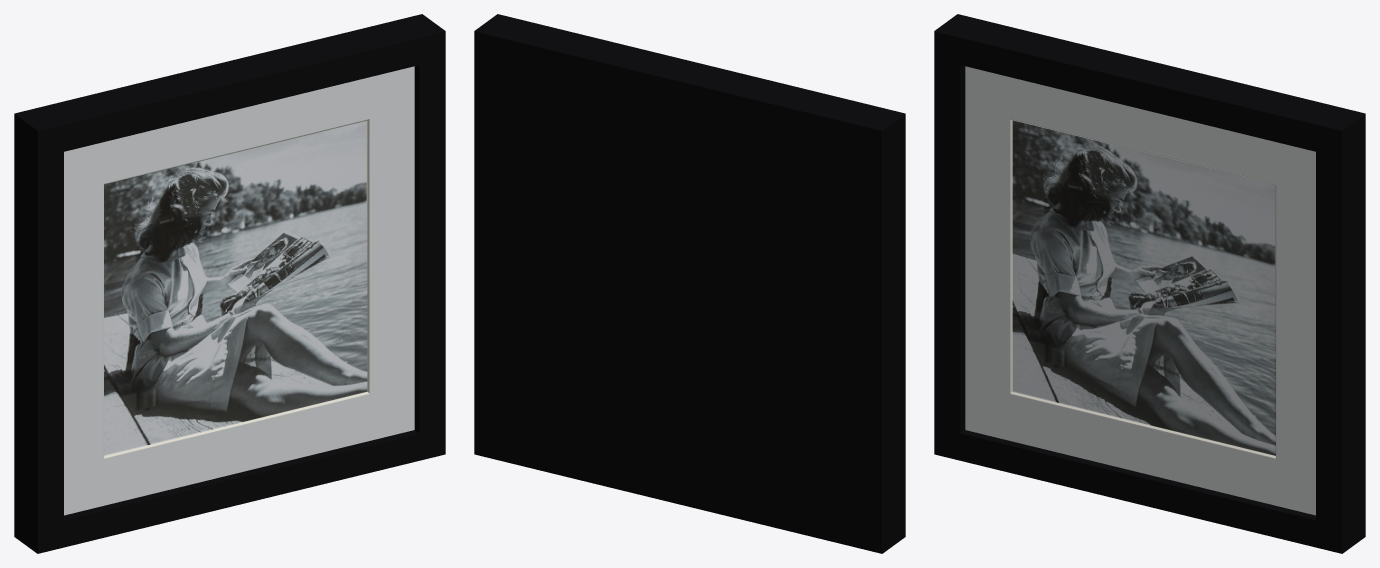
Rendered from picture_frame_B075YLKFB6.glb.
3 renders of one model, left to right at view 1: azimuth 30°, elevation 25°; view 2: azimuth 150°, elevation 25°; view 3: azimuth 330°, elevation 25°, orthographic.
Parts seen in each view (by area): view 1: RootNode; view 2: RootNode; view 3: RootNode.
Part boxes in pixels (box(x1,y1,x2,y2)): RootNode: box(14, 14, 445, 553); RootNode: box(474, 14, 905, 553); RootNode: box(934, 14, 1365, 553).
Bounding box in the file's own units: 0.3076 × 0.3049 × 0.0305.
1 material, 1 textured.
